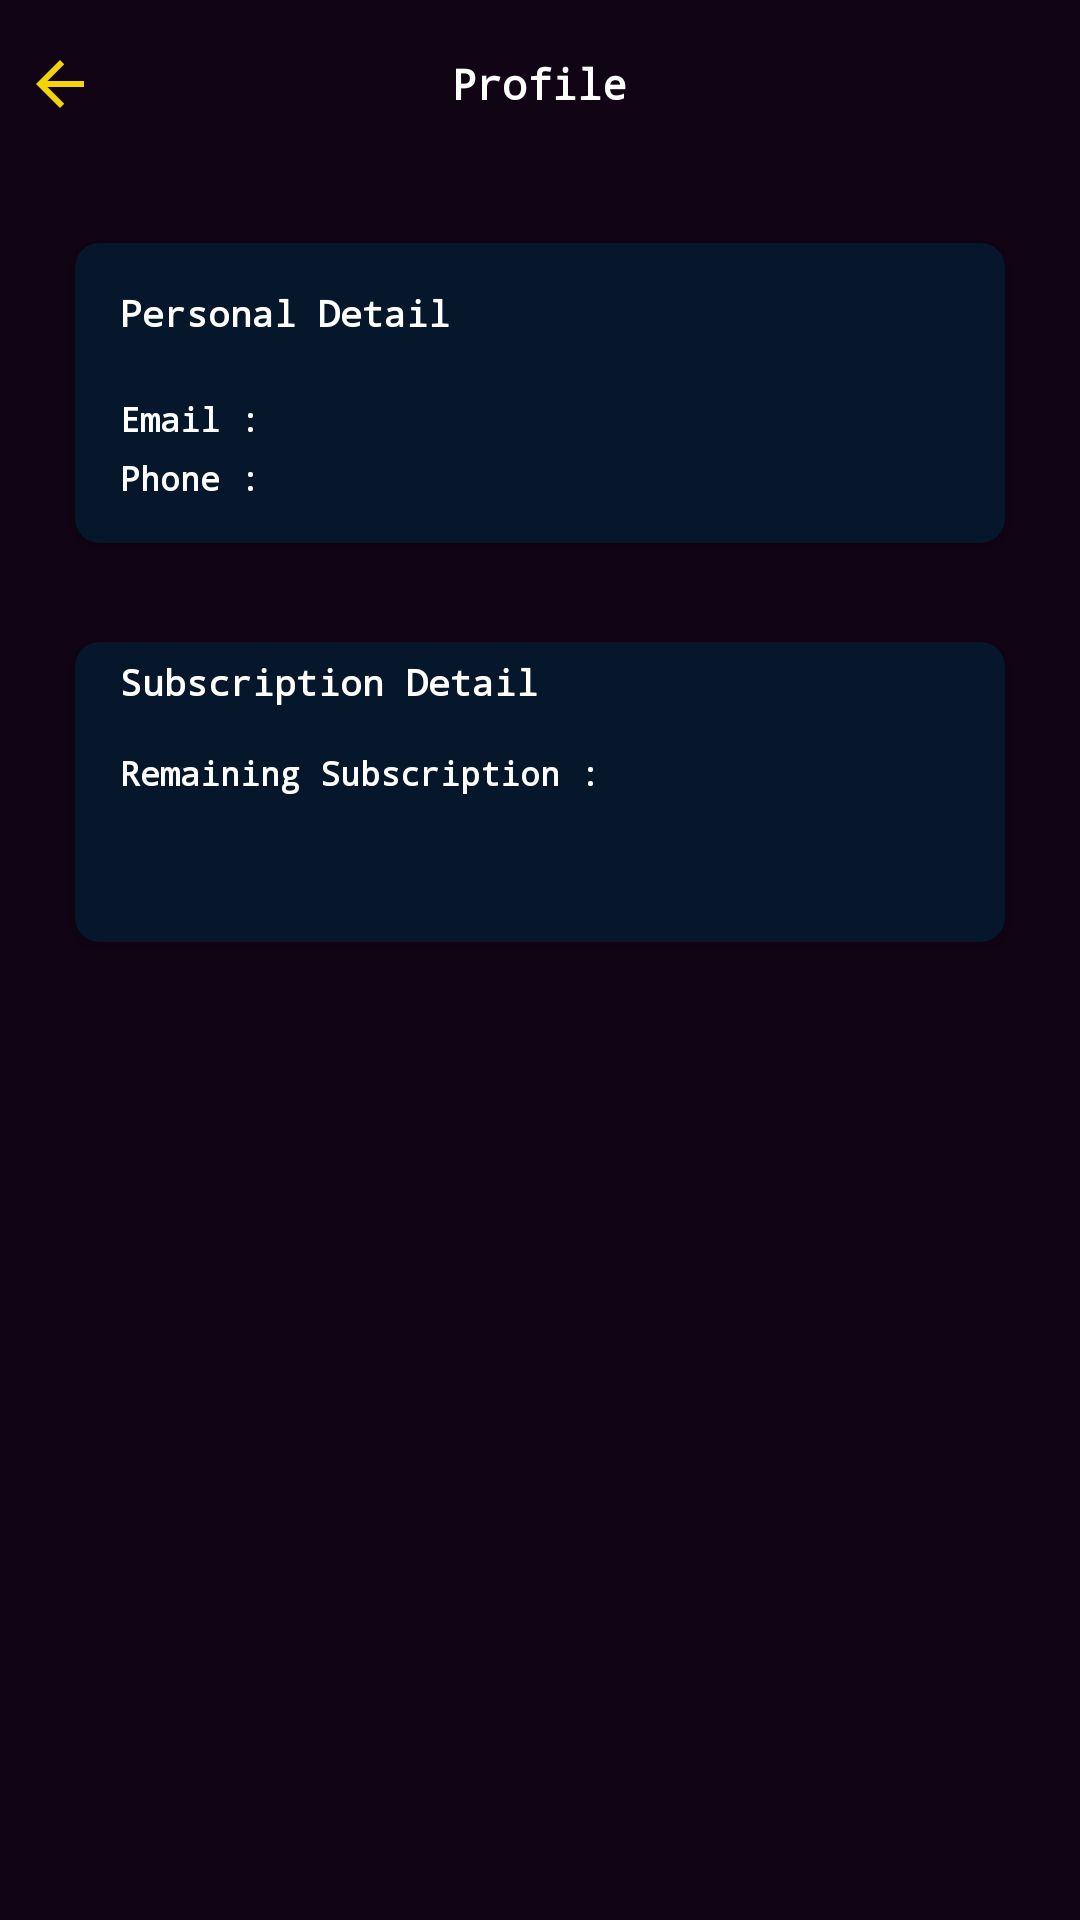

Where icons sit on this 1080w x 1920h app screen, as (x1, y1, x2, y2):
arrow back: (36, 60, 84, 108)
